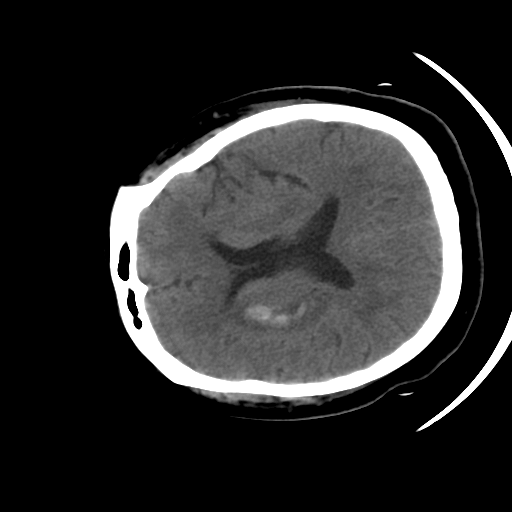a: (226, 289, 332, 337)
